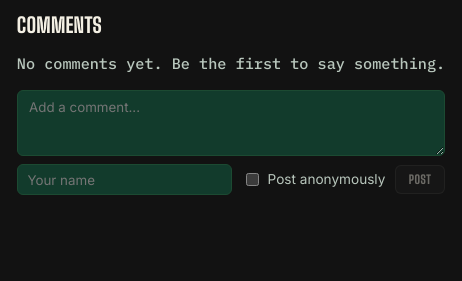
Test: CommentsSection › shows an error message when posting fails
Check: the list item "No comments yet. Be the first to say something." is shown, box [17,52,445,74]
Type "bad word" into the text box labelled "comment" at (231, 123), box [17,90,445,156]
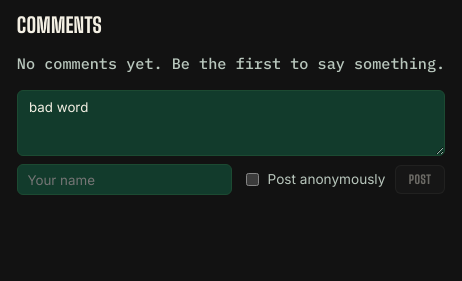
Click the checkbox labelled "Post anonymously" at (252, 180), box [246,173,259,186]
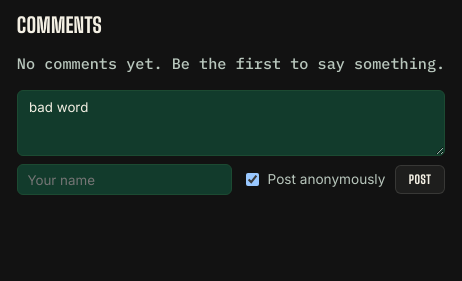
Click the button "Post" at (420, 180), box [395,165,445,194]
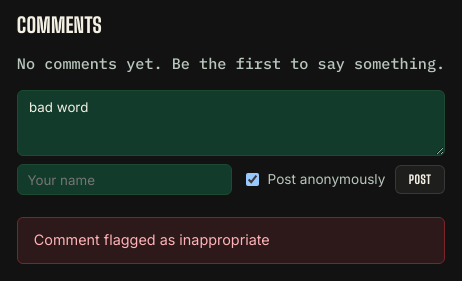
Check: the message reads "Comment flagged as inappropriate", box [34,231,270,248]
